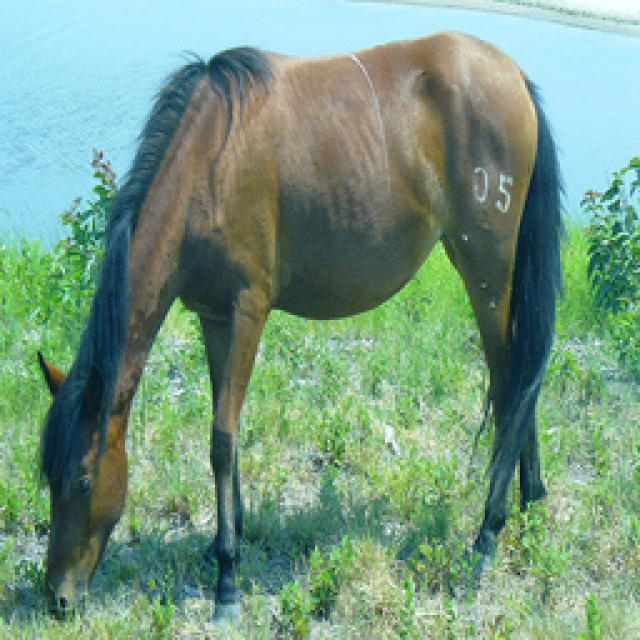not_pig: (33, 28, 565, 628)
